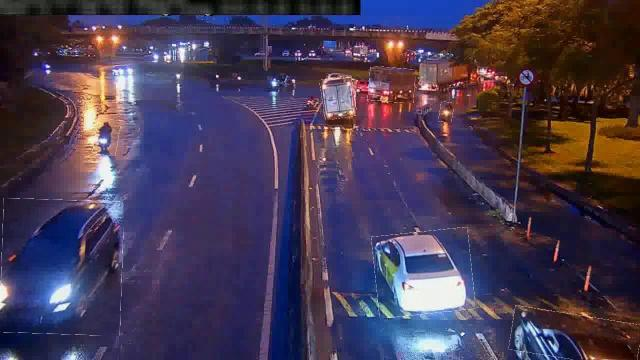Bike: (94, 118, 120, 156), (439, 102, 453, 122)
Car: (0, 199, 124, 335), (373, 229, 473, 316), (509, 310, 639, 360)
Truck: (369, 67, 415, 103), (320, 77, 356, 119)
